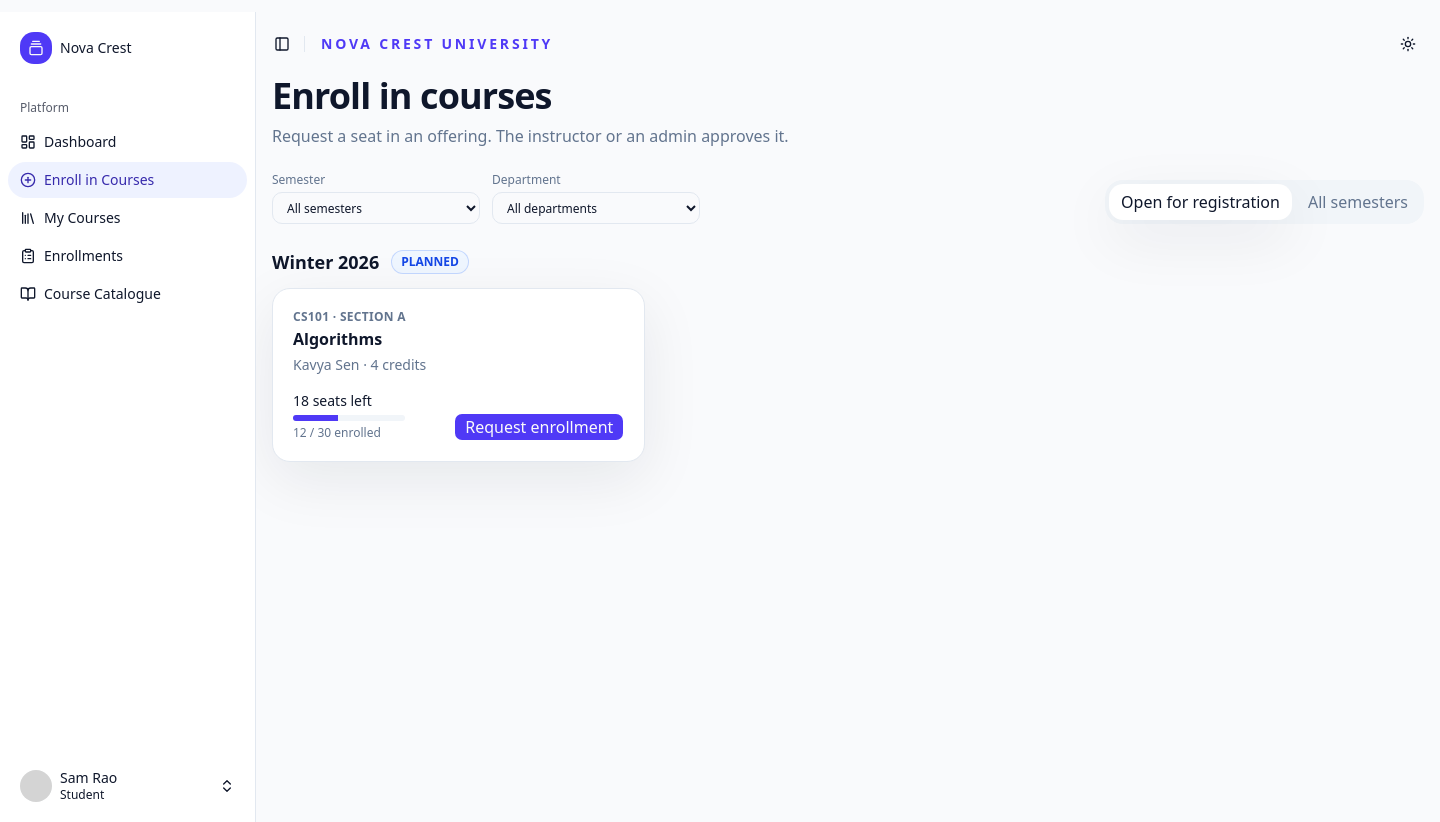
BrowseOfferingsView › shows the server message when the request is refused
The image size is (1440, 822).
What coordinates should you click on to do the following:
click the button "Request enrollment"
I would click on:
 (539, 427)
Its box is 454,413 -> 624,441.
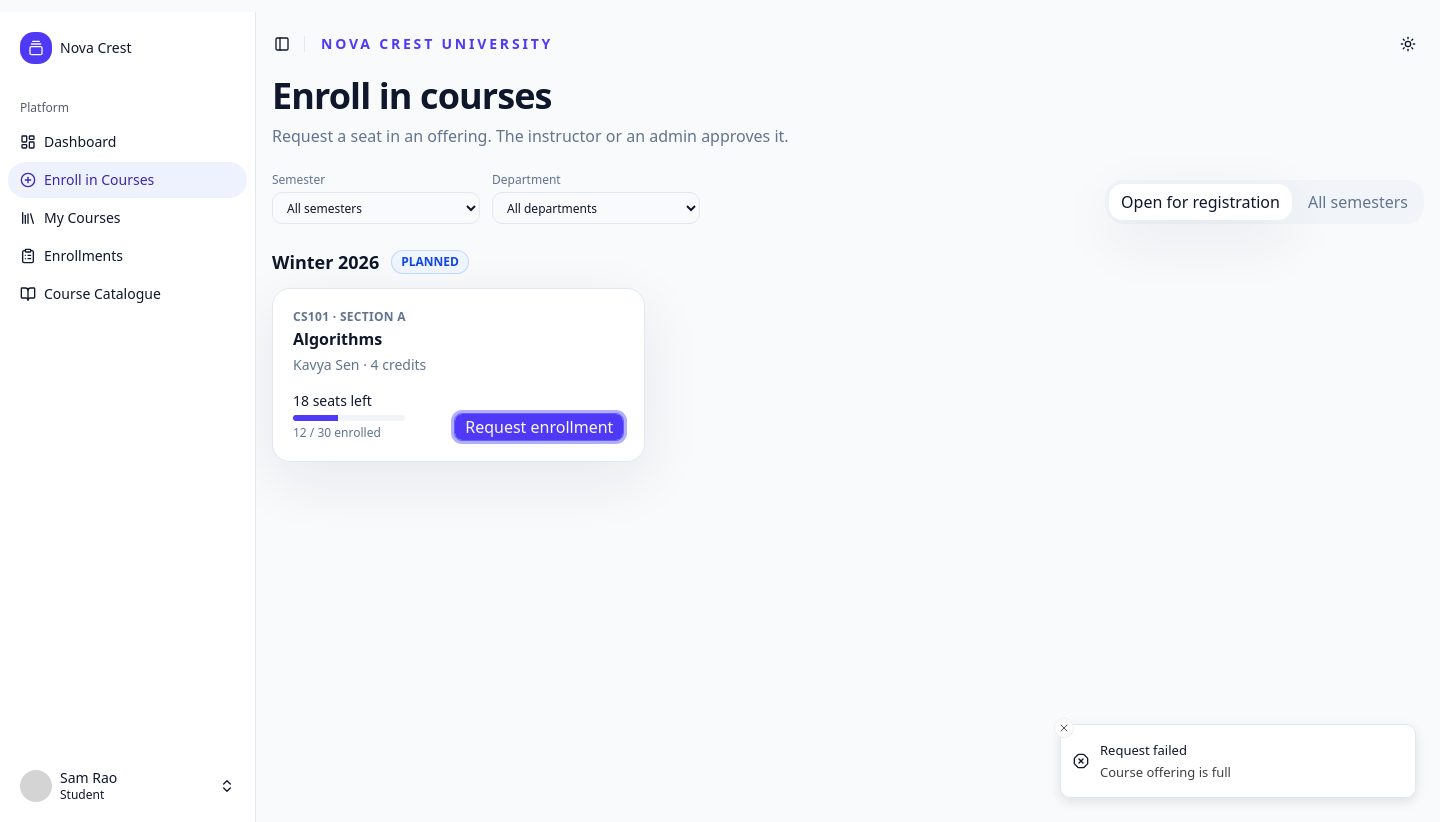
Now the text "Request failed" is shown, box 1100,741 -> 1187,759
Now the text "Course offering is full" is shown, box 1100,763 -> 1231,781
